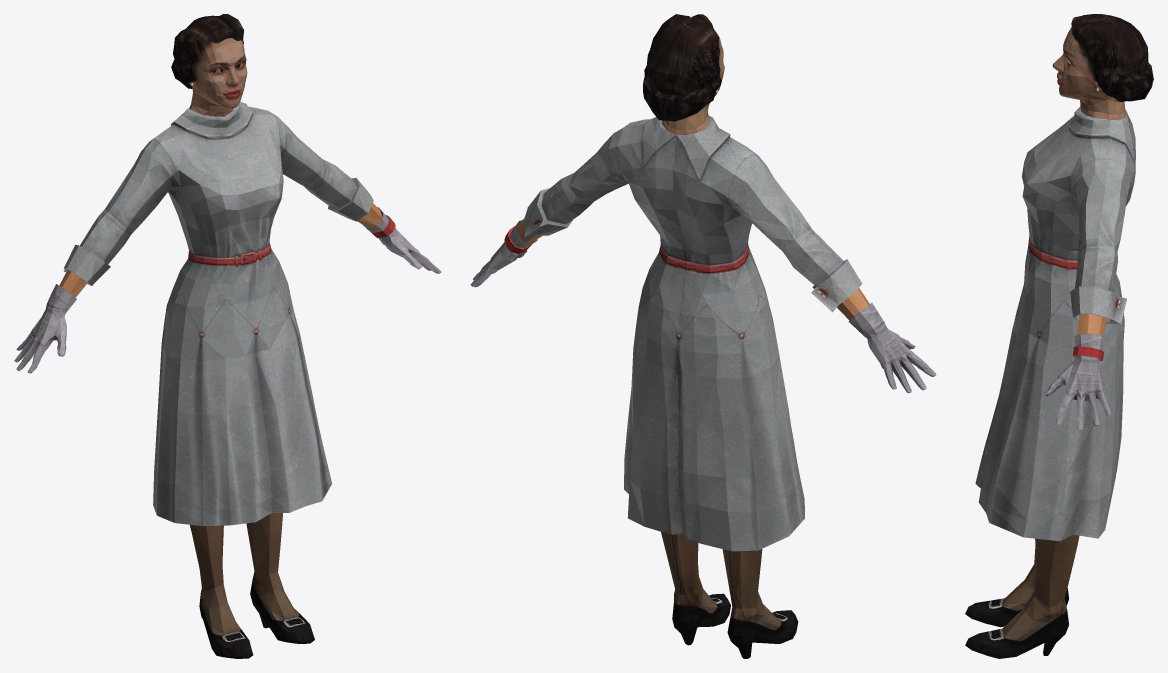
Rendered from npc_cmeszl2.glb.
The picture shows the model from 3 angles, left to right: view 1: azimuth 30°, elevation 25°; view 2: azimuth 150°, elevation 25°; view 3: azimuth 270°, elevation 25°; orthographic projection. The views are drawn at different scales.
Parts seen in each view (by area): view 1: npc; view 2: npc; view 3: npc.
Part boxes in pixels (box(x1,y1,x2,y2)): npc: box(14, 14, 441, 658); npc: box(470, 14, 936, 658); npc: box(965, 14, 1153, 658).
Size of the model in its own units: 0.73 by 1 by 0.2736.
1 material, 1 textured.
